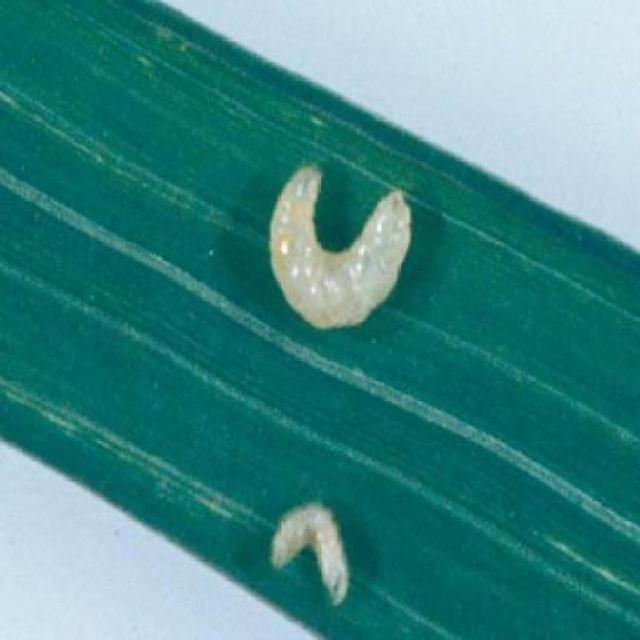whorl-maggot: (265, 147, 413, 341), (257, 491, 360, 611)
